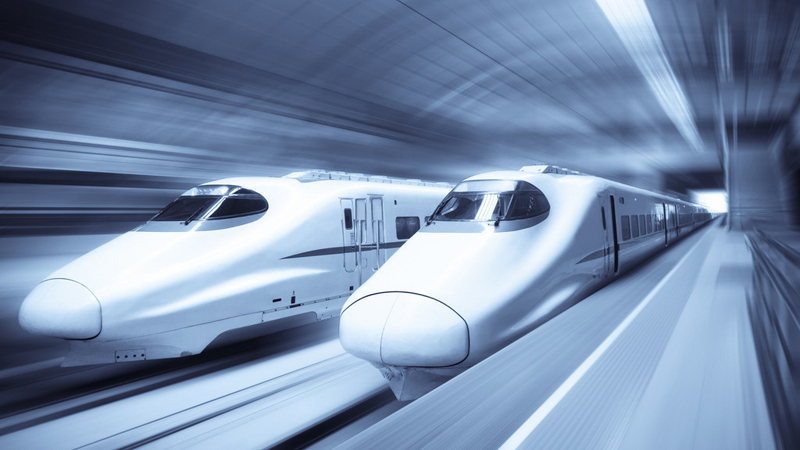hsrw: (337, 163, 710, 401), (15, 165, 442, 368)
